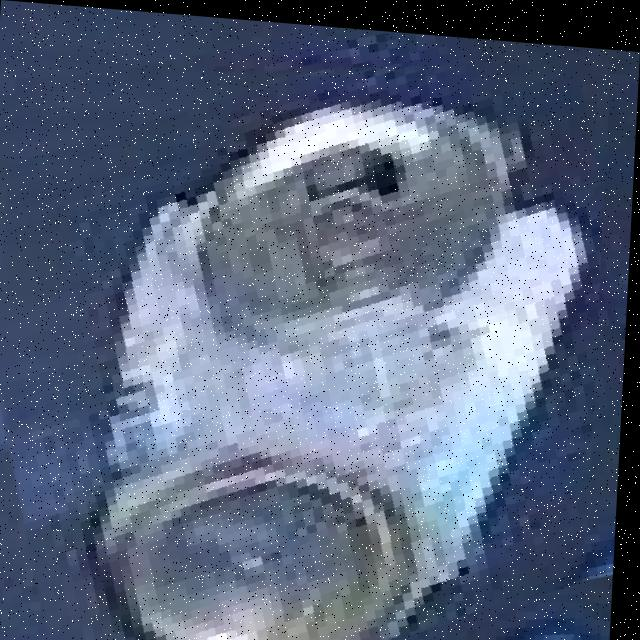can: (0, 51, 603, 640)
